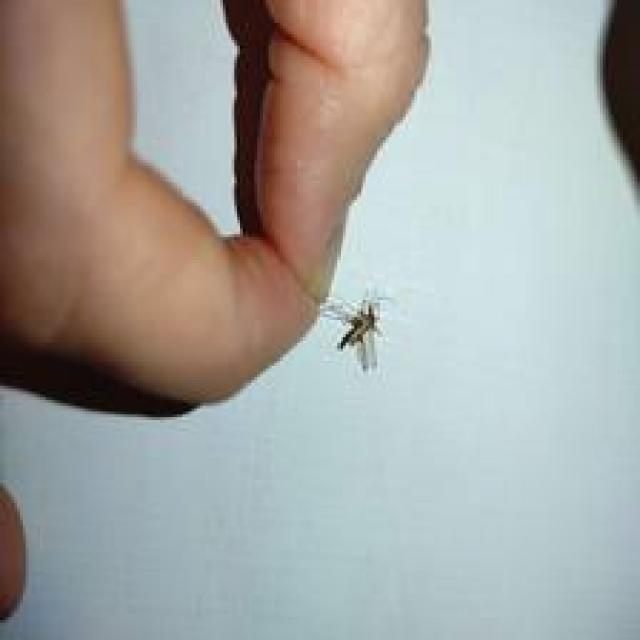Culex: (318, 287, 393, 373)
